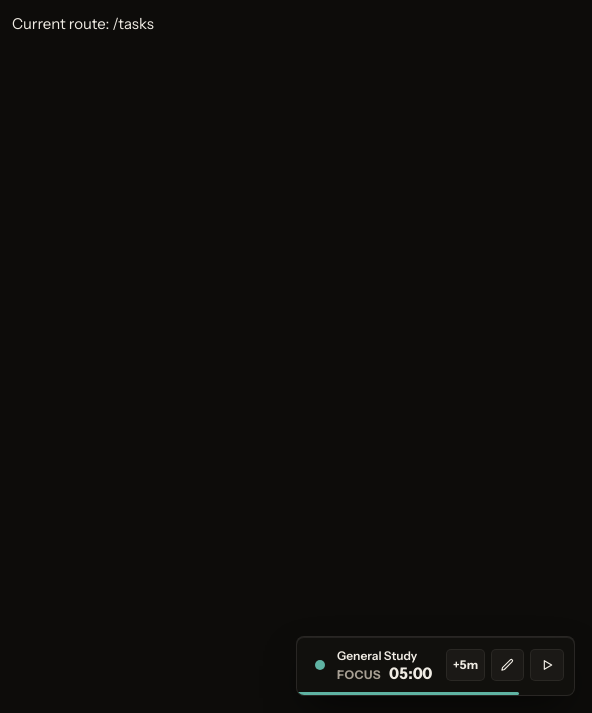
Test: FocusStudyHUD › toggles the timer between pause and resume
The image size is (592, 713).
Click the button named "Resume timer" at (547, 665), box [530, 649, 564, 681]
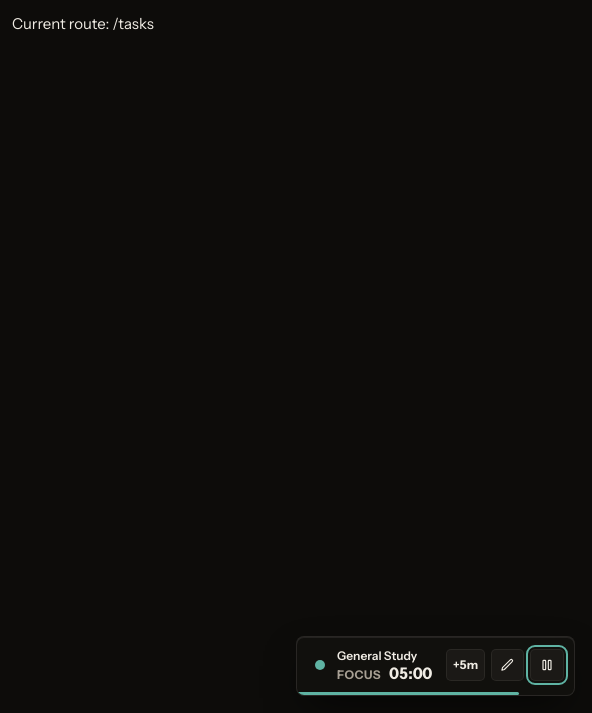
Expected: the button named "Pause timer" is shown
Click the button named "Pause timer" at (547, 665), box [530, 649, 564, 681]
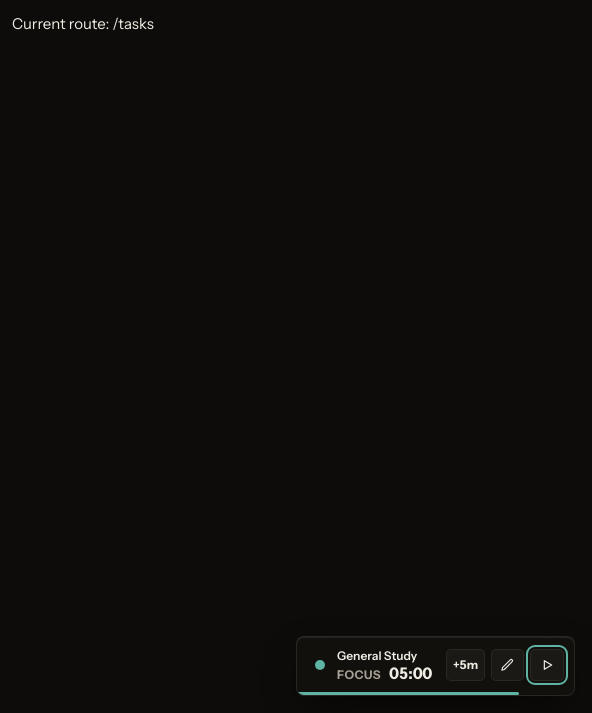
Expected: the button named "Resume timer" is shown, [530, 649, 564, 681]
